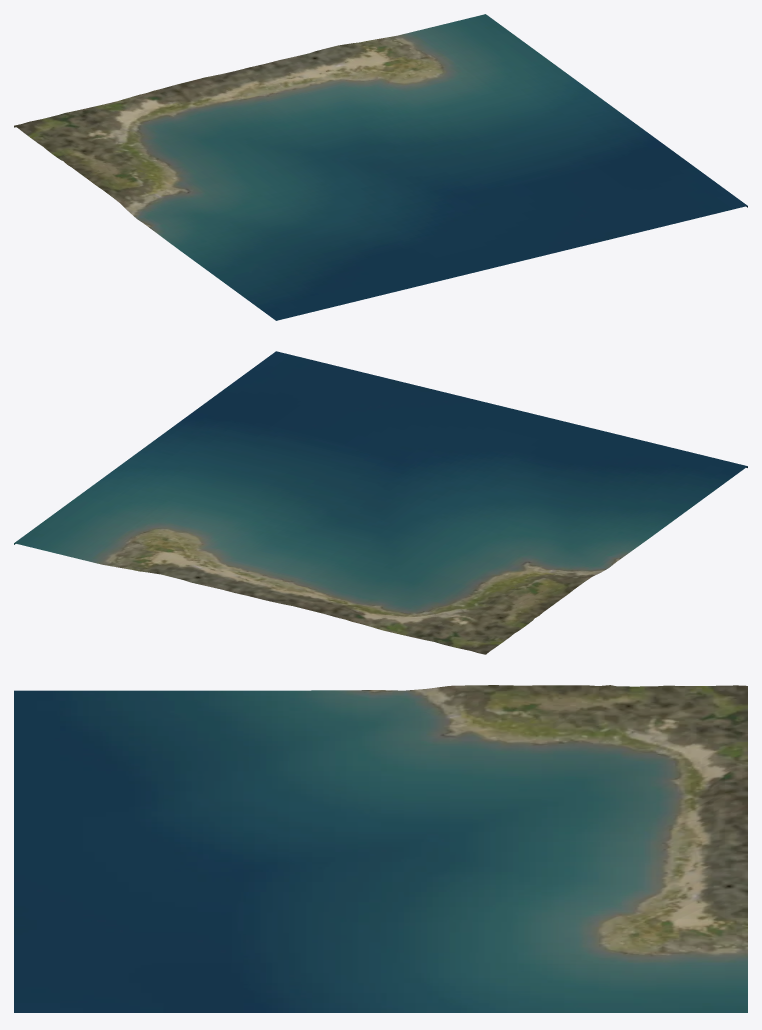
The picture shows the model from 3 angles, top to bottom: view 1: azimuth 30°, elevation 25°; view 2: azimuth 150°, elevation 25°; view 3: azimuth 270°, elevation 25°; orthographic projection. The views are drawn at different scales.
Size of the model in its own units: 250 by 3.62 by 241.
Materials: 1 (1 with a texture image).
